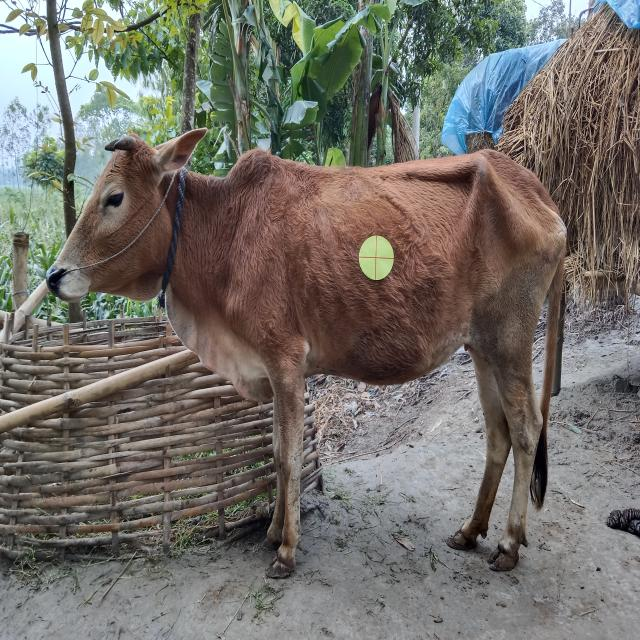badan_sapi: (237, 152, 539, 382)
sapi: (41, 117, 578, 602)
